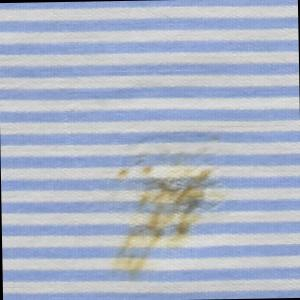Oil Stain: (99, 136, 242, 286)
